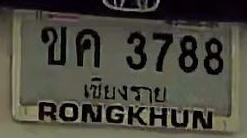number: (37, 17, 227, 78)
province: (81, 74, 169, 105)
